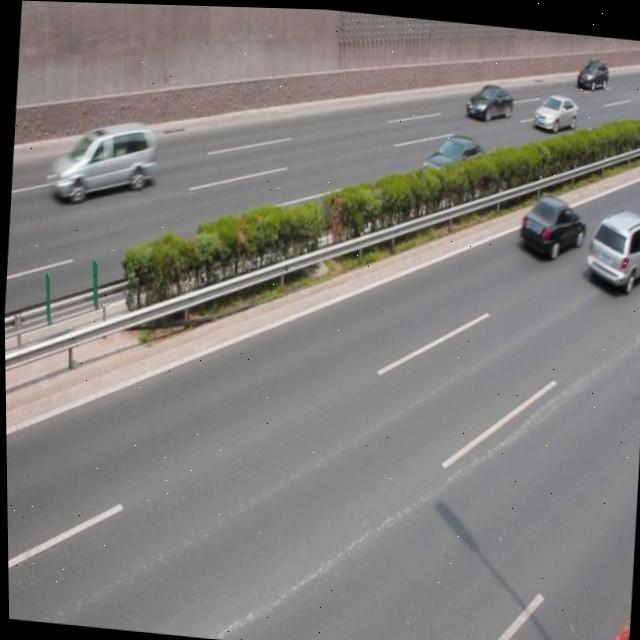car: (44, 117, 157, 209), (580, 200, 640, 289), (416, 127, 490, 197), (515, 190, 586, 259), (461, 76, 512, 121), (529, 86, 579, 131), (573, 51, 609, 90)
